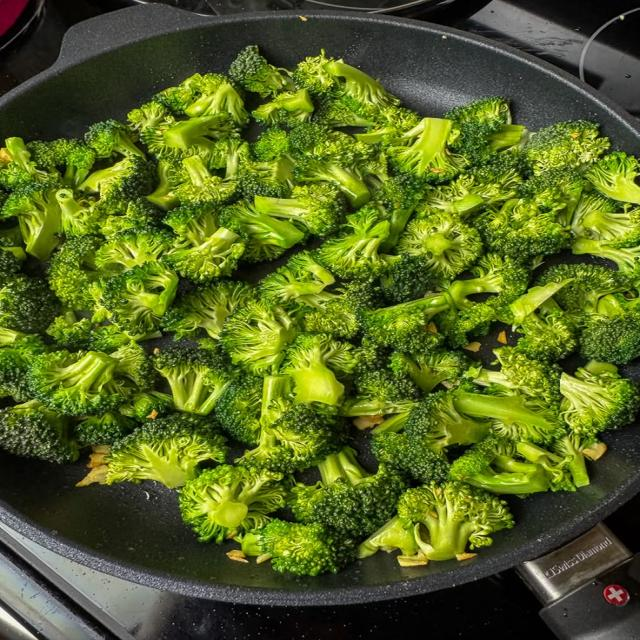broccoli: (288, 447, 406, 538), (398, 482, 513, 560), (106, 414, 226, 488), (180, 465, 290, 543), (292, 124, 386, 208), (236, 404, 346, 472), (27, 350, 134, 415), (421, 153, 524, 218), (241, 519, 353, 576), (500, 280, 578, 361), (472, 198, 572, 261), (453, 386, 562, 442), (449, 436, 552, 495), (220, 300, 299, 375), (395, 212, 483, 279), (560, 363, 639, 436), (280, 333, 359, 406), (100, 261, 178, 334), (162, 280, 257, 339), (404, 389, 489, 454), (153, 346, 233, 415), (315, 207, 389, 279), (386, 118, 467, 183), (361, 294, 451, 352), (220, 201, 305, 262), (215, 376, 288, 445), (258, 251, 339, 313), (254, 183, 346, 237), (47, 235, 113, 310), (0, 400, 78, 463), (535, 263, 633, 313), (162, 227, 247, 283), (0, 182, 61, 260), (524, 121, 610, 173), (79, 156, 154, 213), (372, 174, 425, 252), (580, 294, 639, 364), (517, 168, 586, 227), (371, 431, 449, 483), (340, 368, 420, 416), (94, 226, 174, 272), (389, 348, 472, 392), (571, 192, 639, 245), (27, 139, 96, 189), (184, 74, 249, 127), (0, 275, 59, 333), (172, 156, 239, 205), (229, 46, 293, 97), (0, 335, 48, 402), (0, 137, 59, 191), (380, 254, 437, 304), (585, 152, 639, 204), (571, 238, 639, 279), (357, 516, 419, 559), (55, 189, 105, 237), (252, 89, 314, 126), (85, 120, 144, 157), (74, 412, 138, 446), (46, 309, 93, 351), (127, 99, 174, 134), (119, 391, 173, 421)
